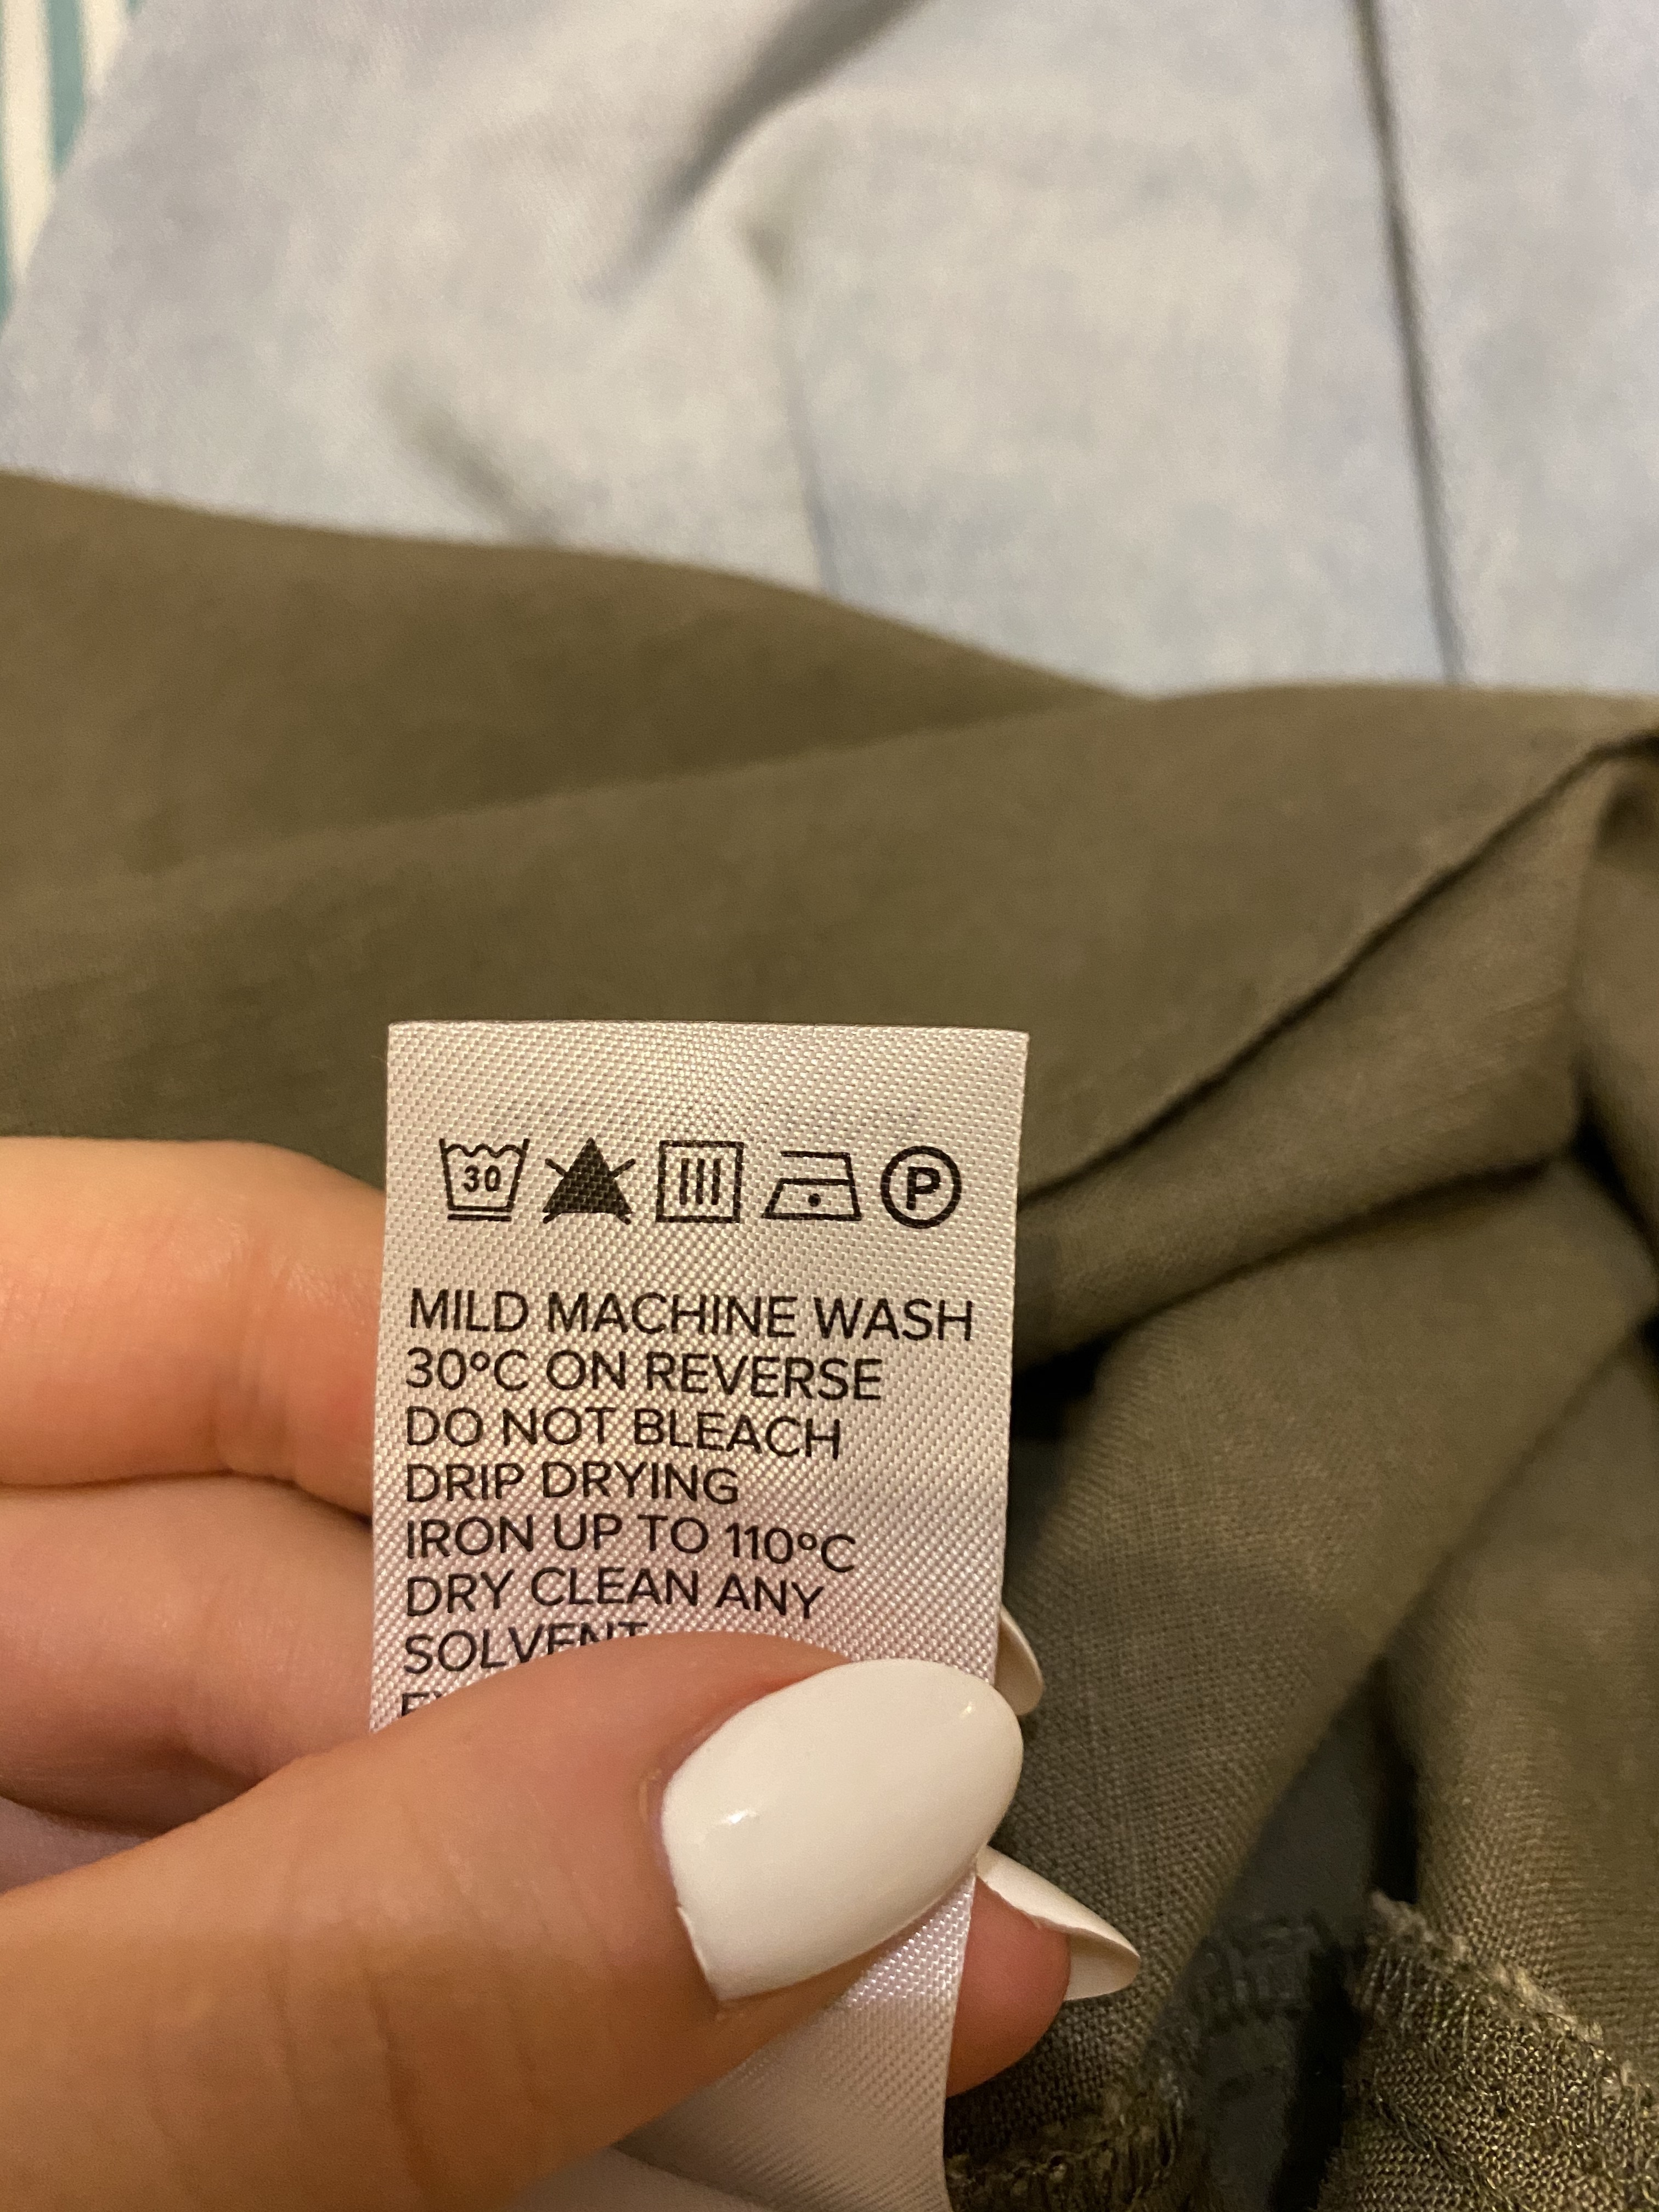do_not_bleach: (533, 1129, 645, 1233)
drip_dry: (648, 1136, 749, 1231)
dry_clean_tetrachloroethylene_pce_only: (875, 1139, 971, 1238)
ironing_at_low_temp: (758, 1141, 870, 1231)
wash_at_or_below_30_mild_fine_wash: (434, 1130, 533, 1231)
